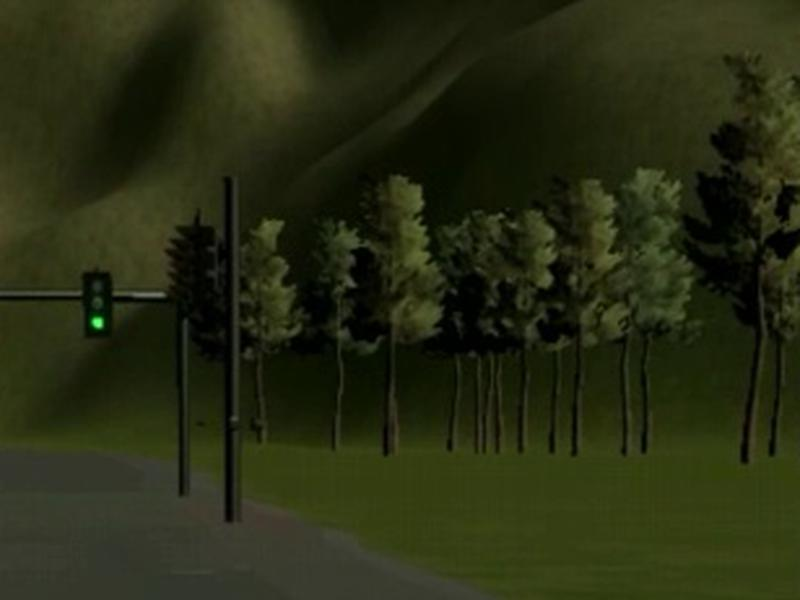Green: (84, 272, 110, 336)
